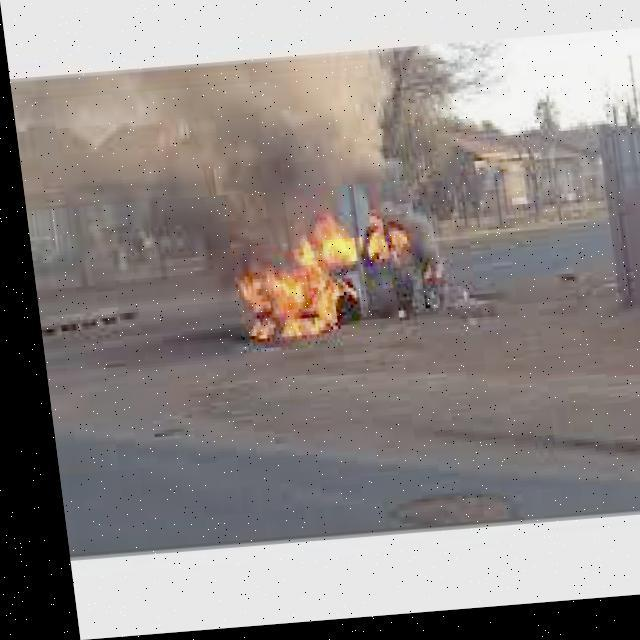Fire: (212, 203, 420, 357)
